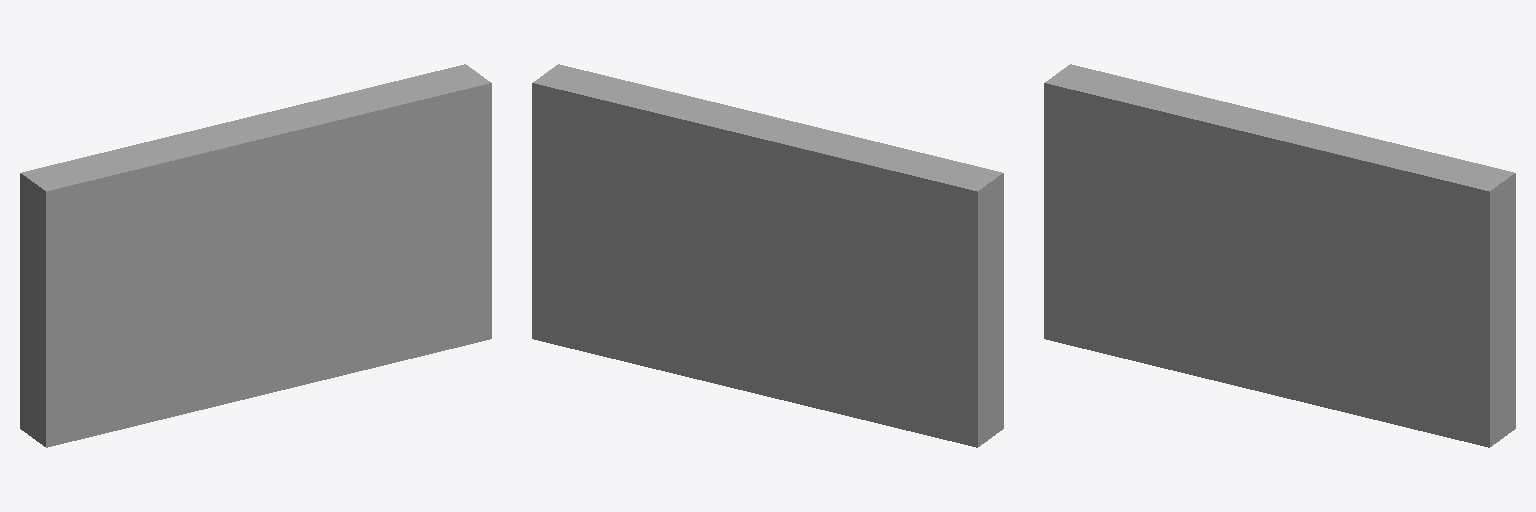
The robot description file, URDF, robot "narrow_tunnel":
<robot name="narrow_tunnel">
  <link name="narrow_tunnel_base_link">
    <visual>
      <origin rpy="0 0 3.14159" xyz="0 0 0"/>
      <geometry>
        <mesh filename="../meshes/wall1.obj"  scale="0.0008 0.0008 0.0008"/>
      </geometry>
      <material name="tray_material">
        <color rgba="0.7 0.7 0.7 1"/>
      </material>
    </visual>
    <collision>
      <origin rpy="0 0 3.14159" xyz="0 0 0"/>
      <geometry>
        <mesh filename="../meshes/wall1.obj" scale="0.0008 0.0008 0.0008"/>
      </geometry>
    </collision>
  </link>
</robot>

--- Facts derived from the render (not from the file) ---
The picture shows the robot from 3 angles, left to right: view 1: azimuth 30°, elevation 25°; view 2: azimuth 150°, elevation 25°; view 3: azimuth 330°, elevation 25°; orthographic projection.
Robot: narrow_tunnel — 1 links, 0 joints (none); root link narrow_tunnel_base_link; default pose: every joint at zero.
Links seen in each view (by area): view 1: narrow_tunnel_base_link; view 2: narrow_tunnel_base_link; view 3: narrow_tunnel_base_link.
Boxes of the visible links, x1,y1,x2,y2 form: narrow_tunnel_base_link: (20, 64, 491, 447); narrow_tunnel_base_link: (532, 64, 1003, 447); narrow_tunnel_base_link: (1044, 64, 1515, 447).
Size in the robot's own frame: 0.8 by 0.08 by 0.44 metres.
1 mesh visuals loaded from 1 distinct referenced files (1 OBJ).